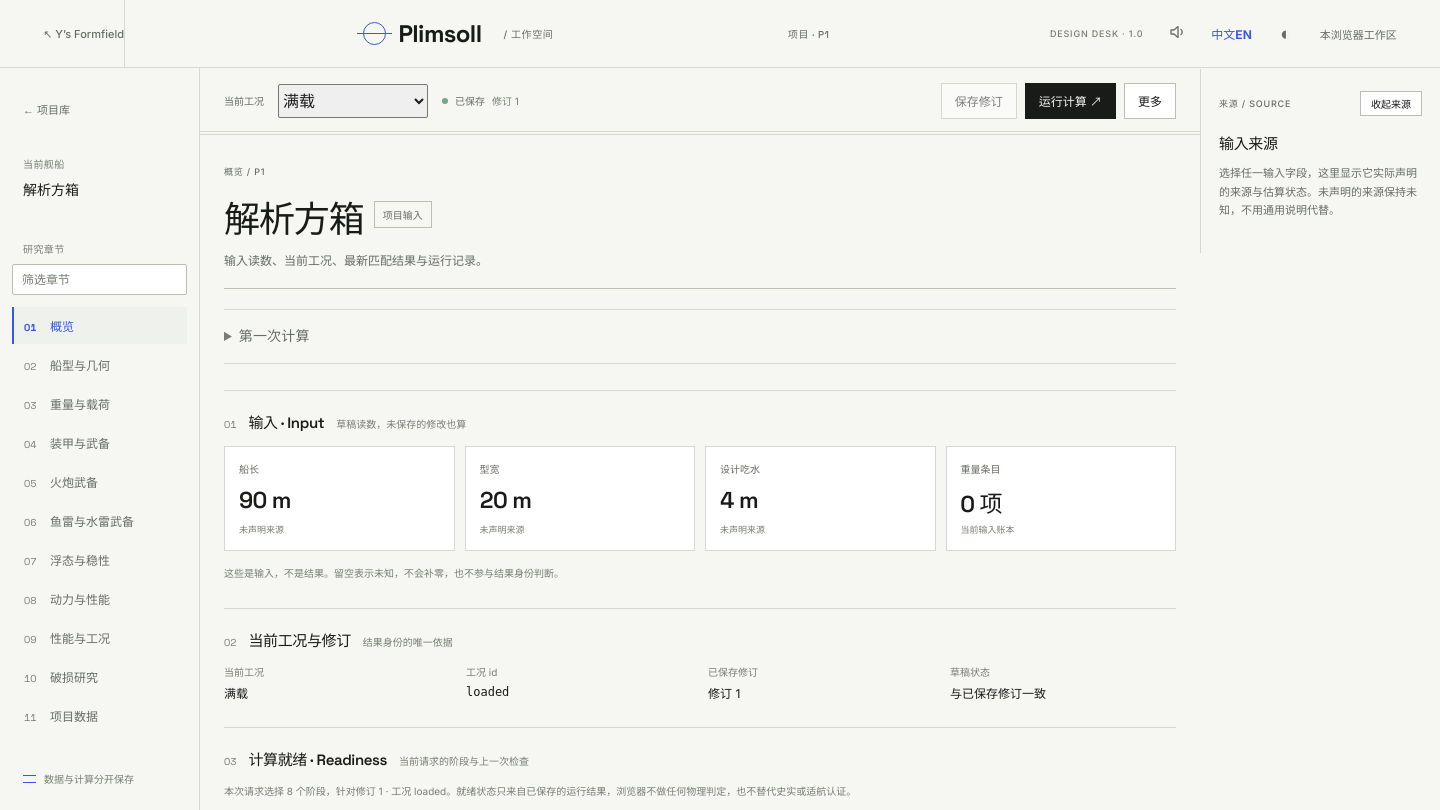
Test: the guard in the assembled application › asks nothing for a chapter, a Trace field or a display unit
Click the button "02 船型与几何". click: (100, 364)
box: [12,346,187,383]
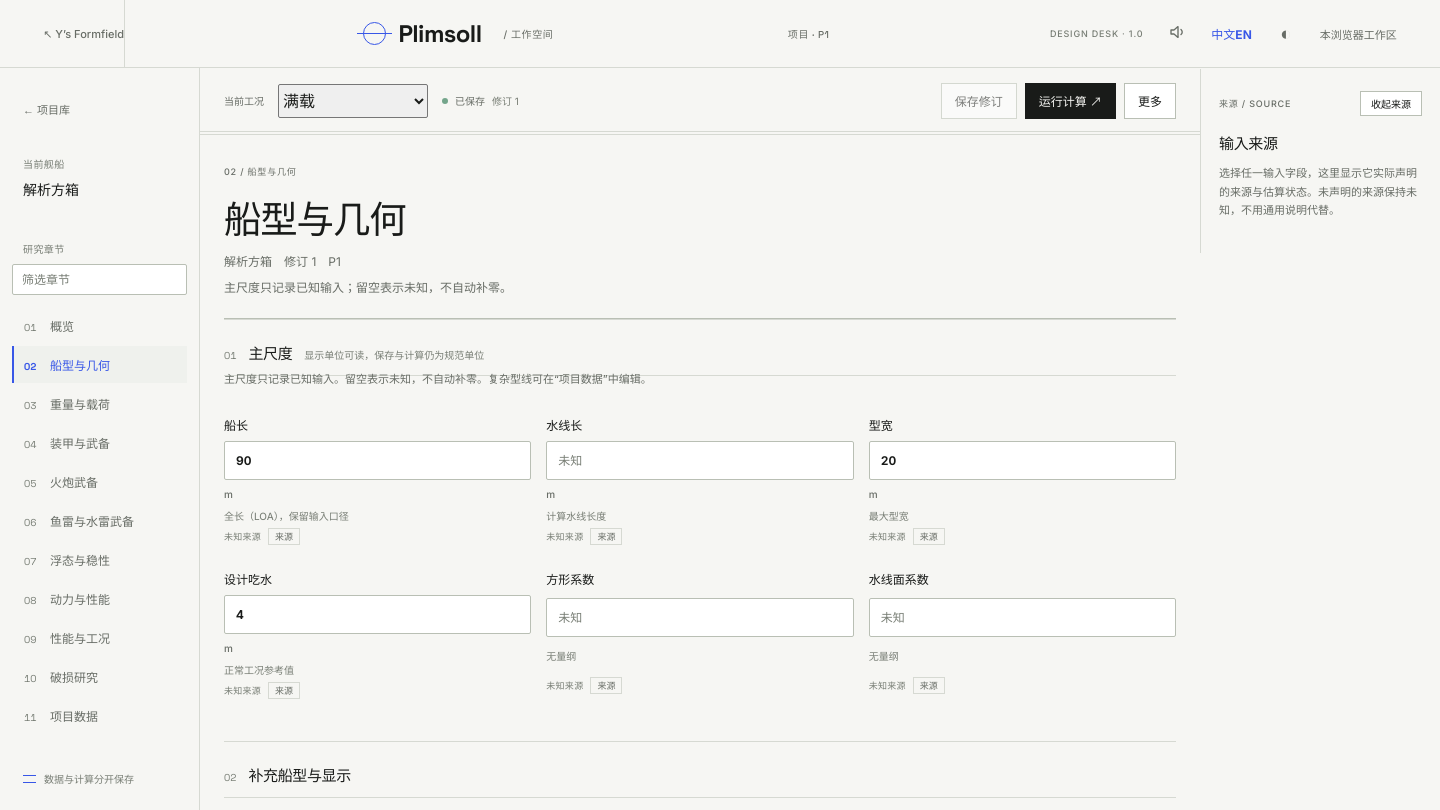
Replace the text in the number field labelled "船长" with "91". click: (378, 460)
box: [224,441,531,480]
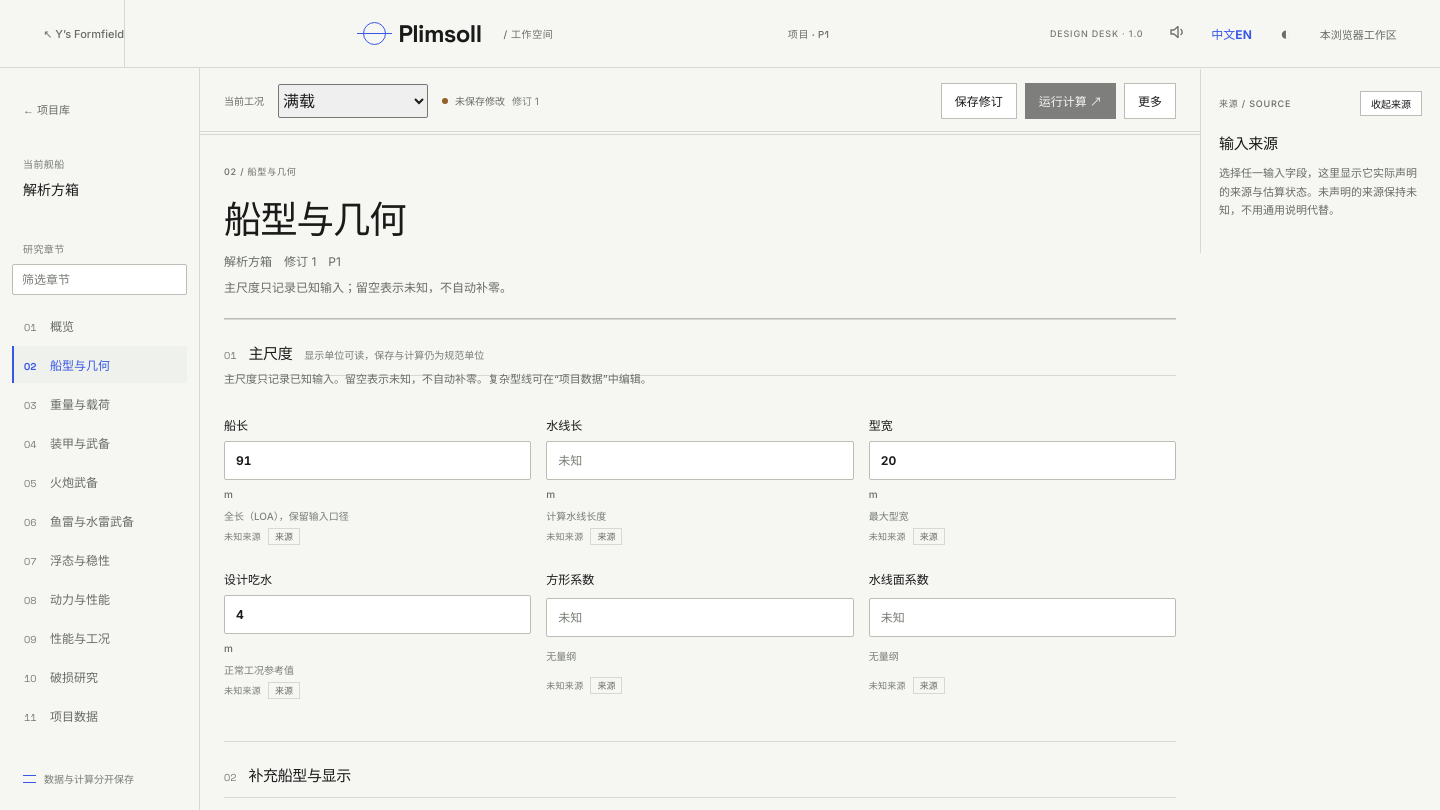
Expected: the text "未保存修改" is shown, [455,93,505,108]
Click the button named "查看 船长 的来源与估算状态". click: (284, 536)
box: [268,528,300,545]
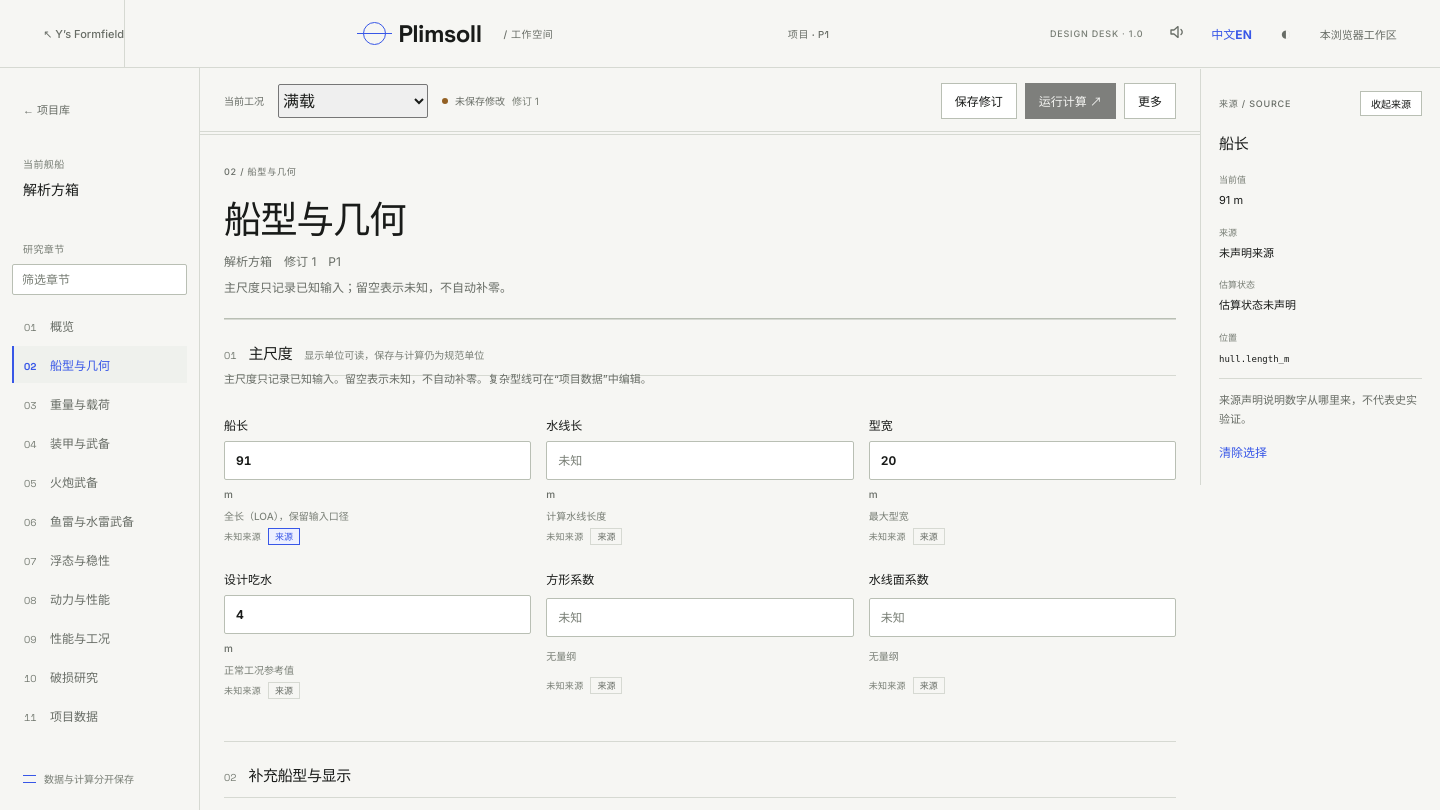
Expected: the heading "船长" is shown, [1219,134,1248,153]
Click the button "03 重量与载荷". click: (100, 404)
box: [12,385,187,422]
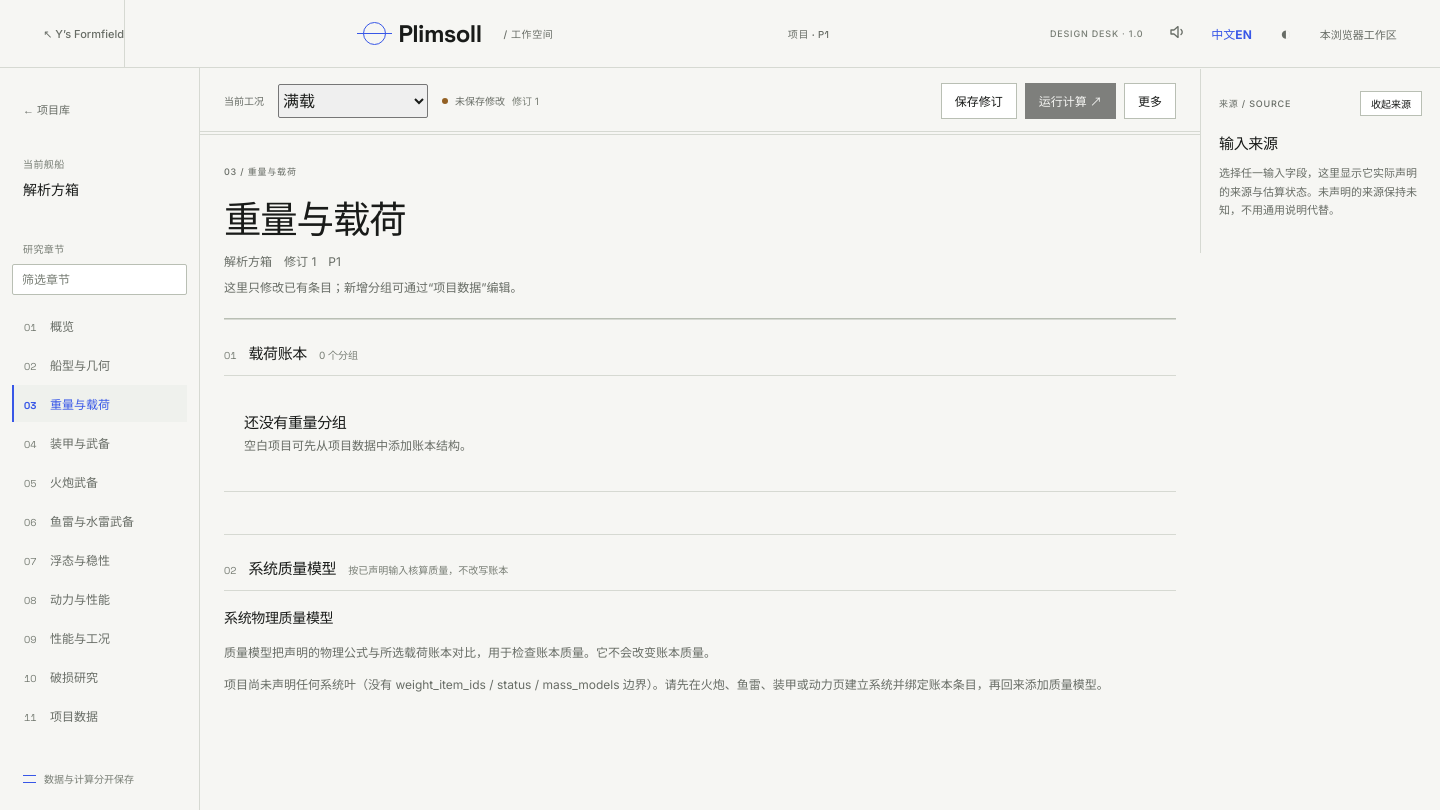
Expected: the heading "重量与载荷" is shown, [224,196,406,244]
Click the button "01 概览". click: (100, 326)
box: [12,307,187,344]
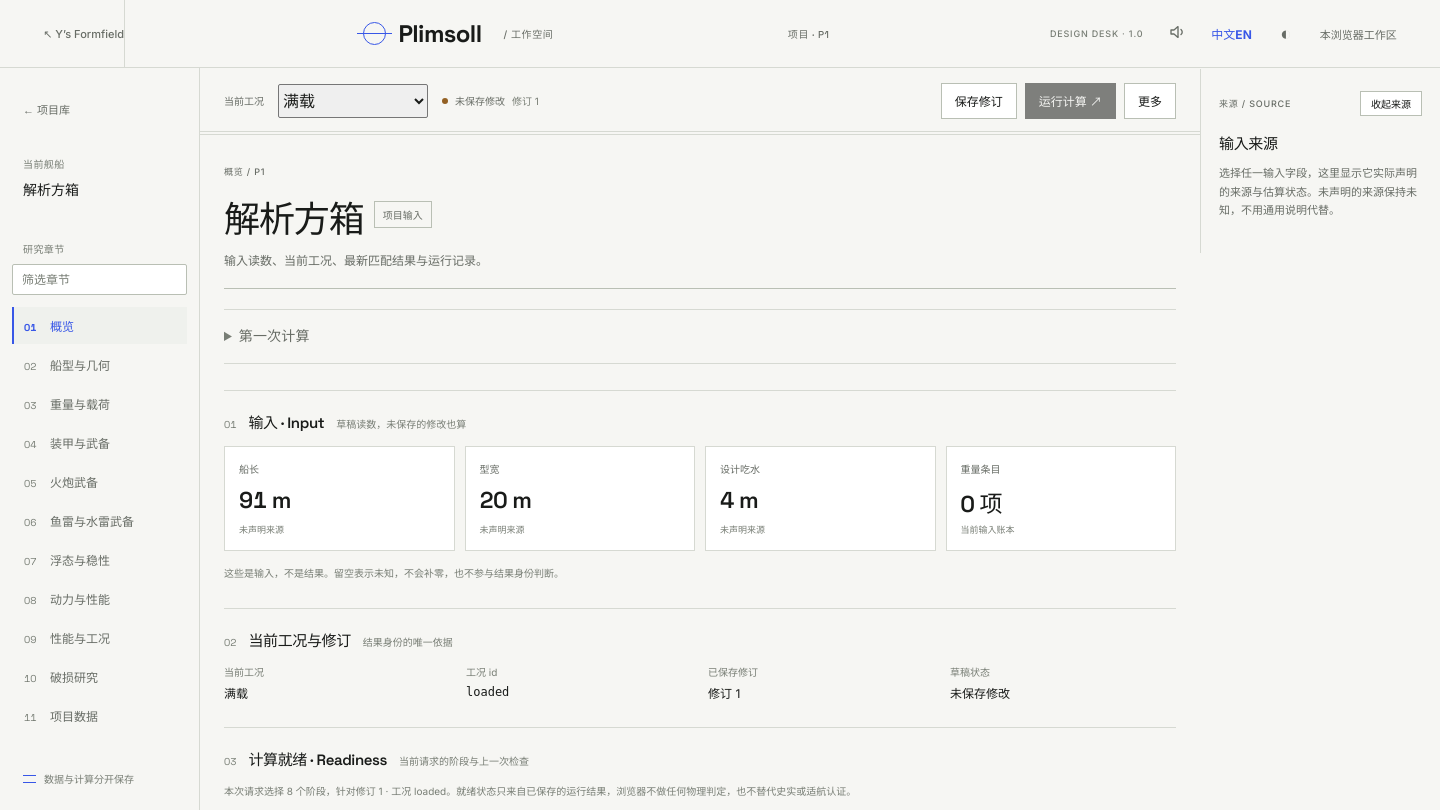
Expected: the heading "解析方箱" is shown, [224,190,364,243]
